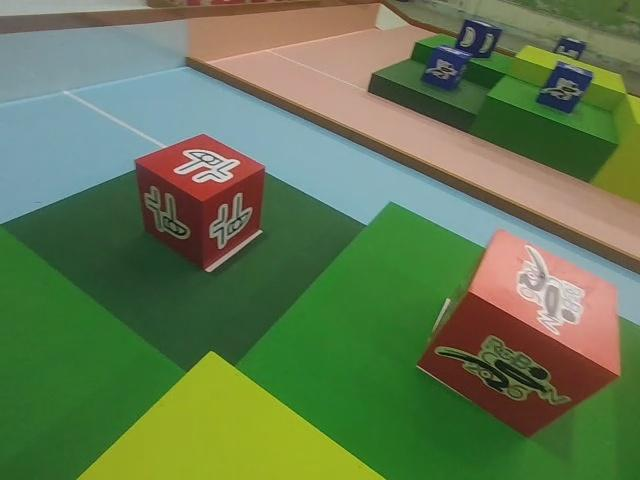R1: (412, 223, 623, 440)
R2 Real: (131, 129, 268, 275)
